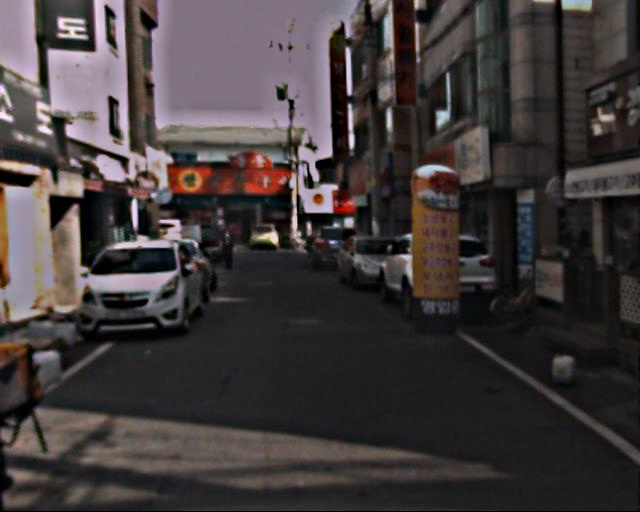person: (216, 220, 239, 272)
